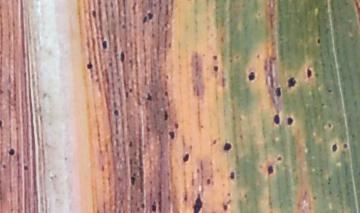tarspot: (193, 193, 202, 213), (272, 112, 280, 126), (222, 141, 232, 151), (287, 78, 297, 88), (167, 129, 176, 140), (247, 71, 256, 81), (274, 87, 282, 98), (286, 116, 294, 127), (305, 67, 312, 79), (7, 148, 16, 157), (101, 40, 109, 50), (145, 91, 153, 101), (228, 170, 236, 180), (163, 111, 170, 122), (267, 165, 274, 176), (86, 61, 94, 70), (145, 11, 154, 19), (172, 121, 180, 130), (182, 153, 190, 162), (113, 108, 120, 118), (119, 52, 125, 63), (331, 143, 338, 152), (130, 174, 135, 186), (127, 140, 134, 148), (212, 64, 219, 72), (315, 36, 322, 44), (151, 201, 156, 212), (92, 10, 98, 19), (342, 141, 348, 150), (1, 162, 8, 169), (211, 54, 218, 61), (276, 155, 283, 162), (139, 203, 146, 209), (142, 16, 148, 23), (221, 204, 228, 210), (327, 88, 333, 94), (206, 178, 211, 185), (327, 122, 332, 129), (23, 165, 29, 170), (1, 120, 4, 128)
